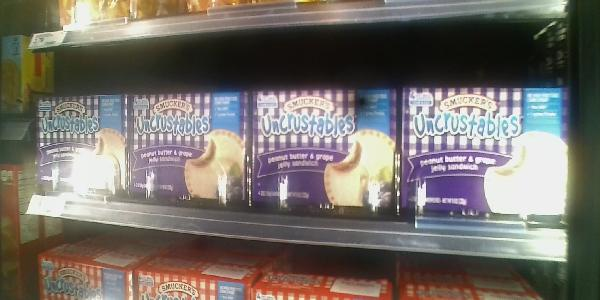icecream: (400, 84, 571, 222), (248, 86, 400, 224), (129, 92, 248, 208), (37, 93, 129, 203)
